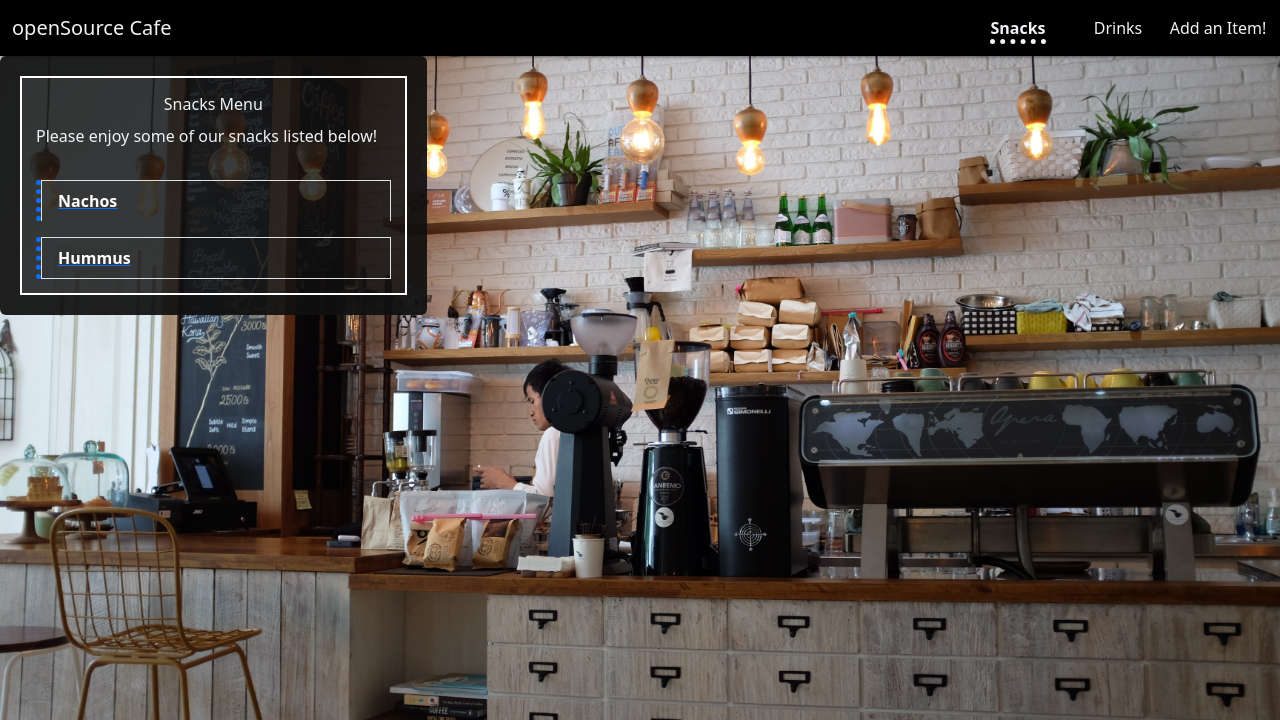
Test: submits new drink successfully with valid inputs
This screenshot has width=1280, height=720.
Click the link with class "NavLink-new-item": (1218, 28) 1170,17 -> 1266,39
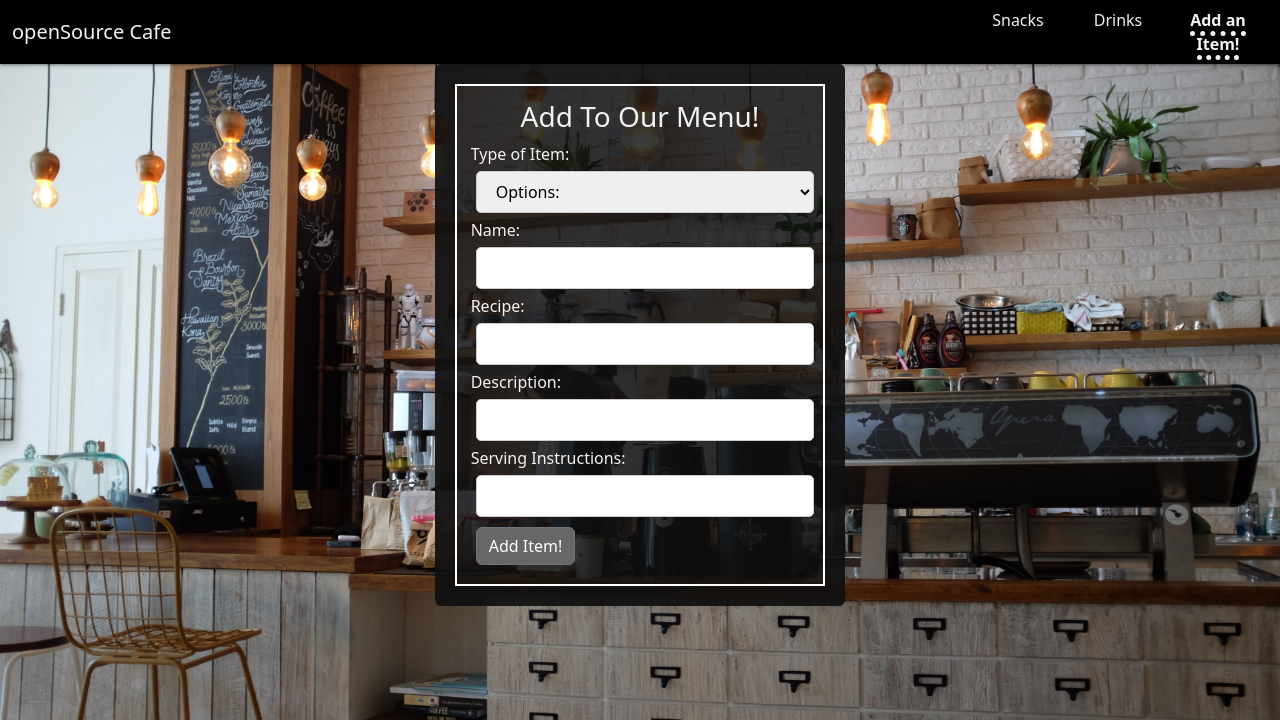
Select "Drink" in the dropdown with class "NewItemForm-type": (645, 192) 476,171 -> 814,213
In the field with id "NewItemForm-name": (645, 268) 476,247 -> 814,289, type "New Drink!"
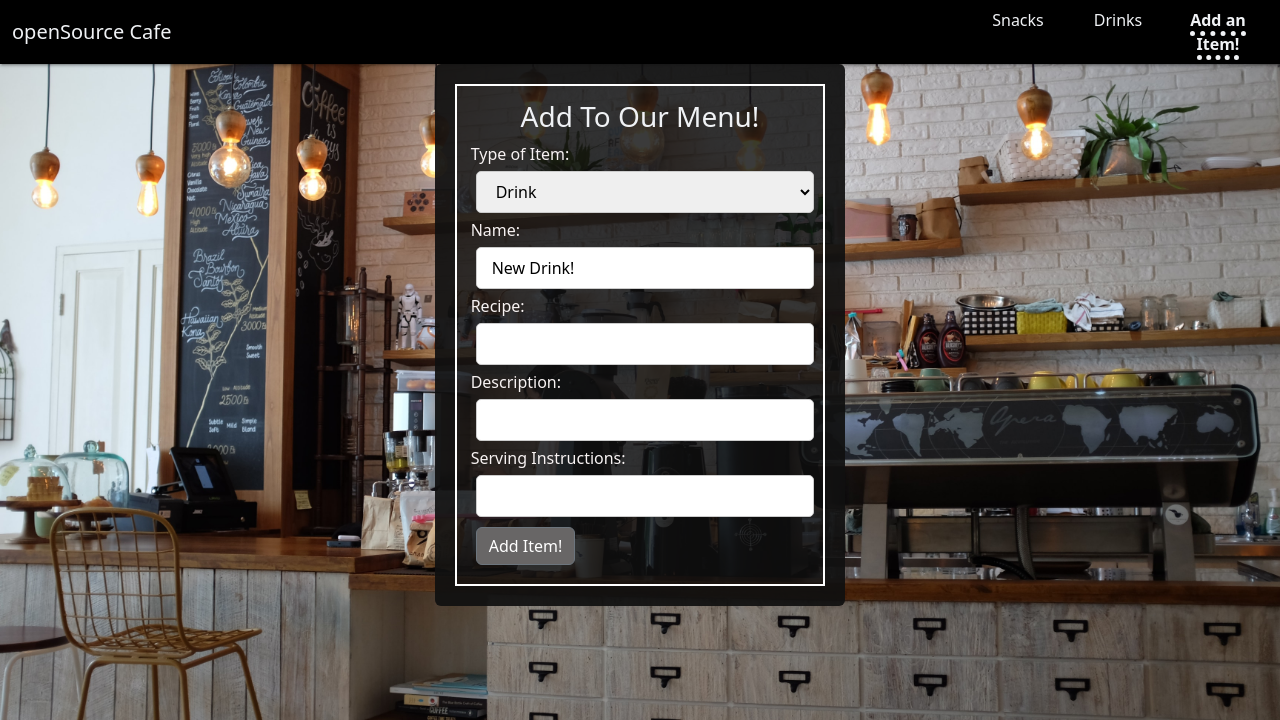
In the field with id "NewItemForm-recipe": (645, 344) 476,323 -> 814,365, type "Just have fun out there."
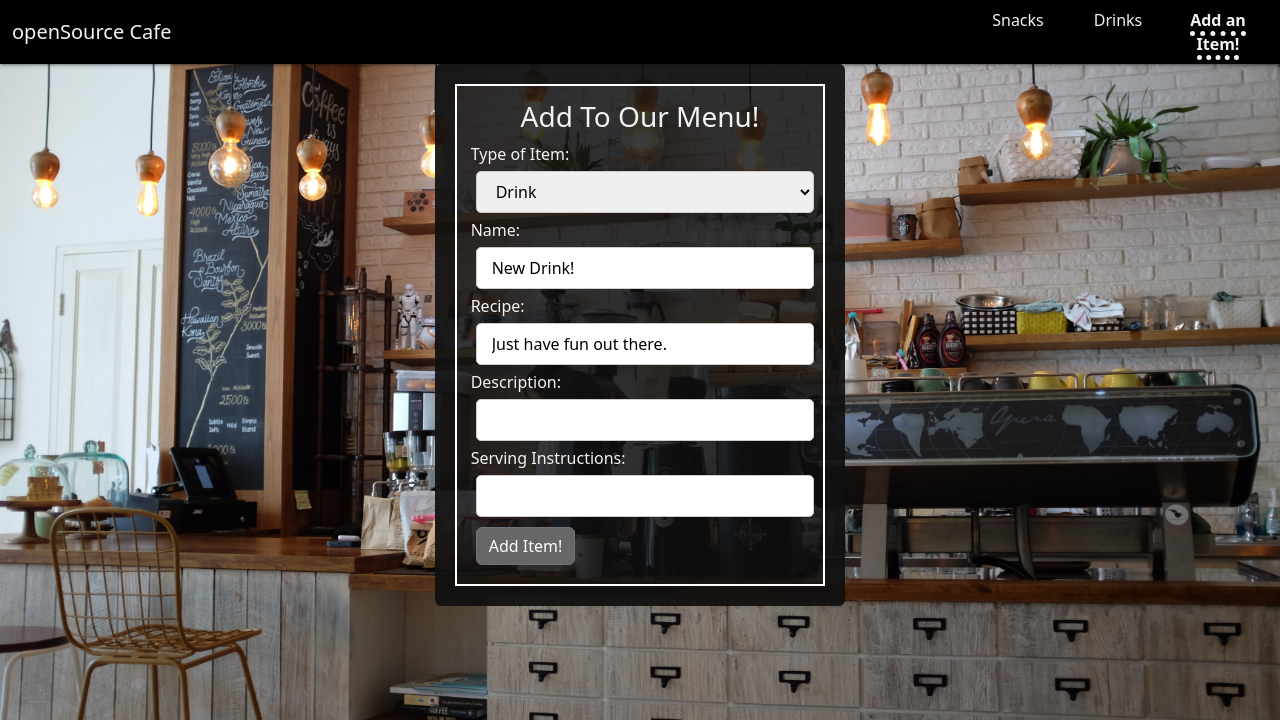
In the field with id "NewItemForm-description": (645, 420) 476,399 -> 814,441, type "New drink description."
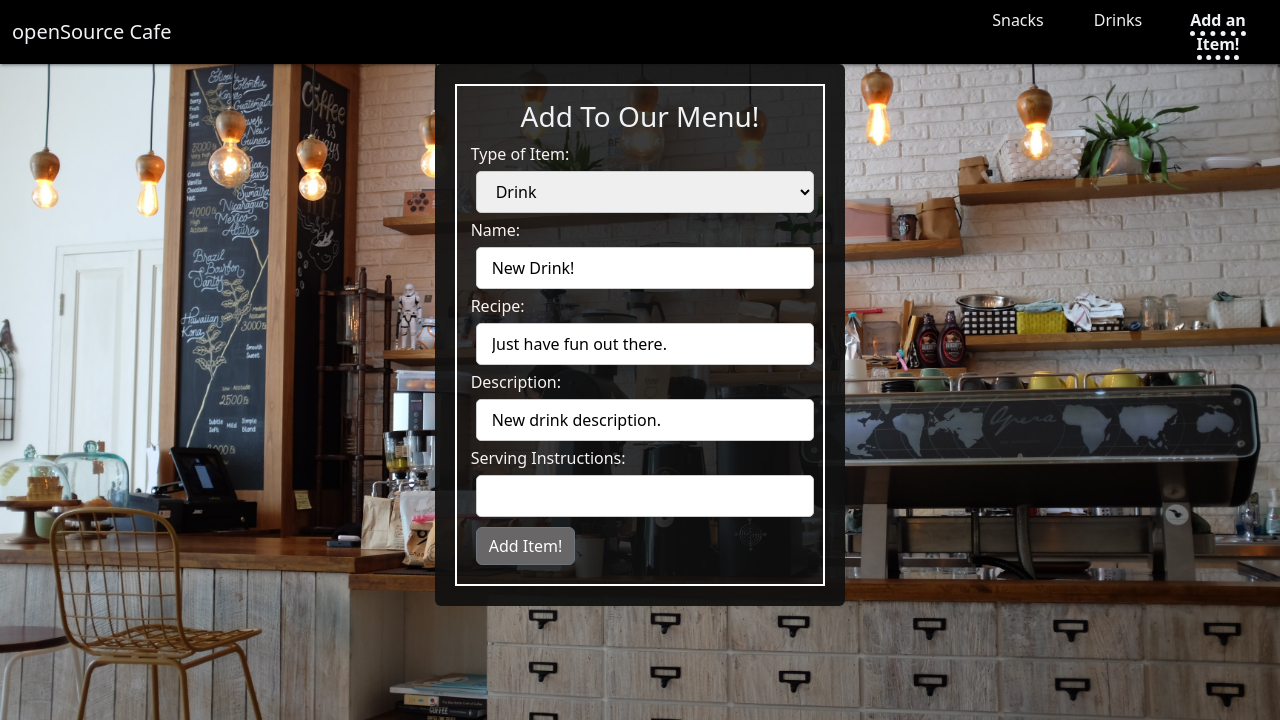
In the field with id "NewItemForm-serving-instructions": (645, 496) 476,475 -> 814,517, type "All day"
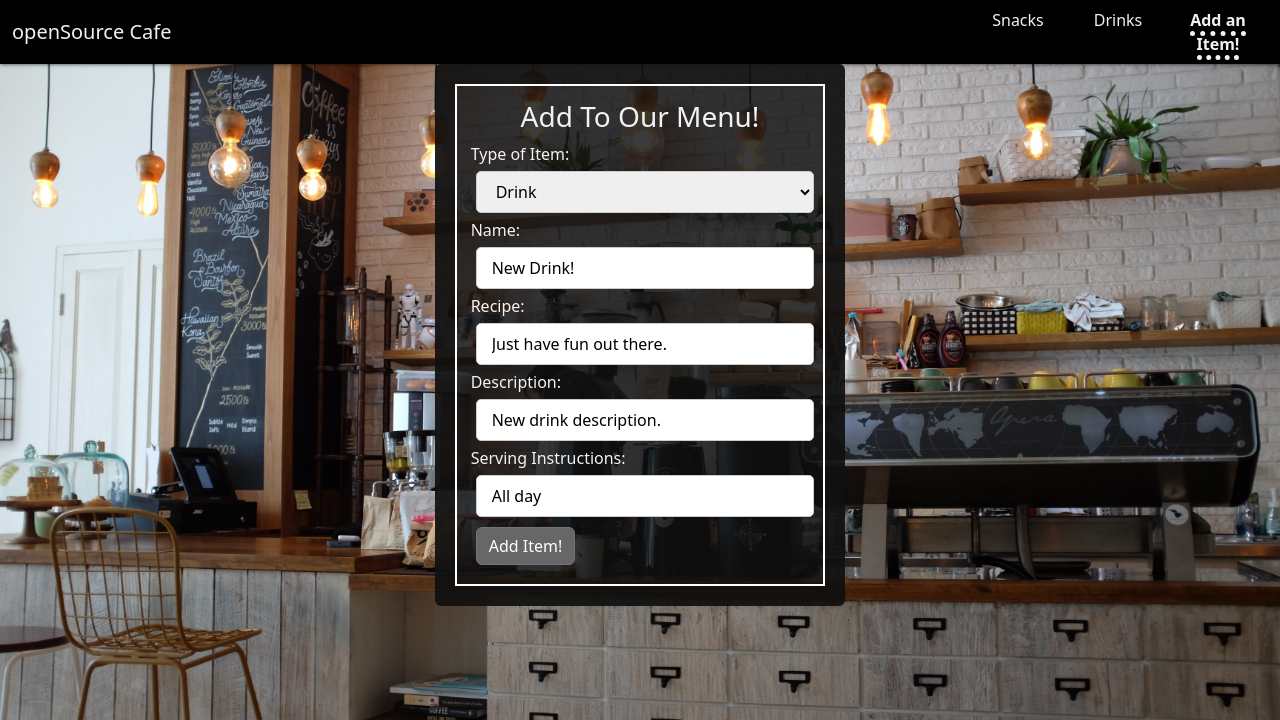
Submit the form with class "NewItemForm-form", box 471,142 -> 809,570
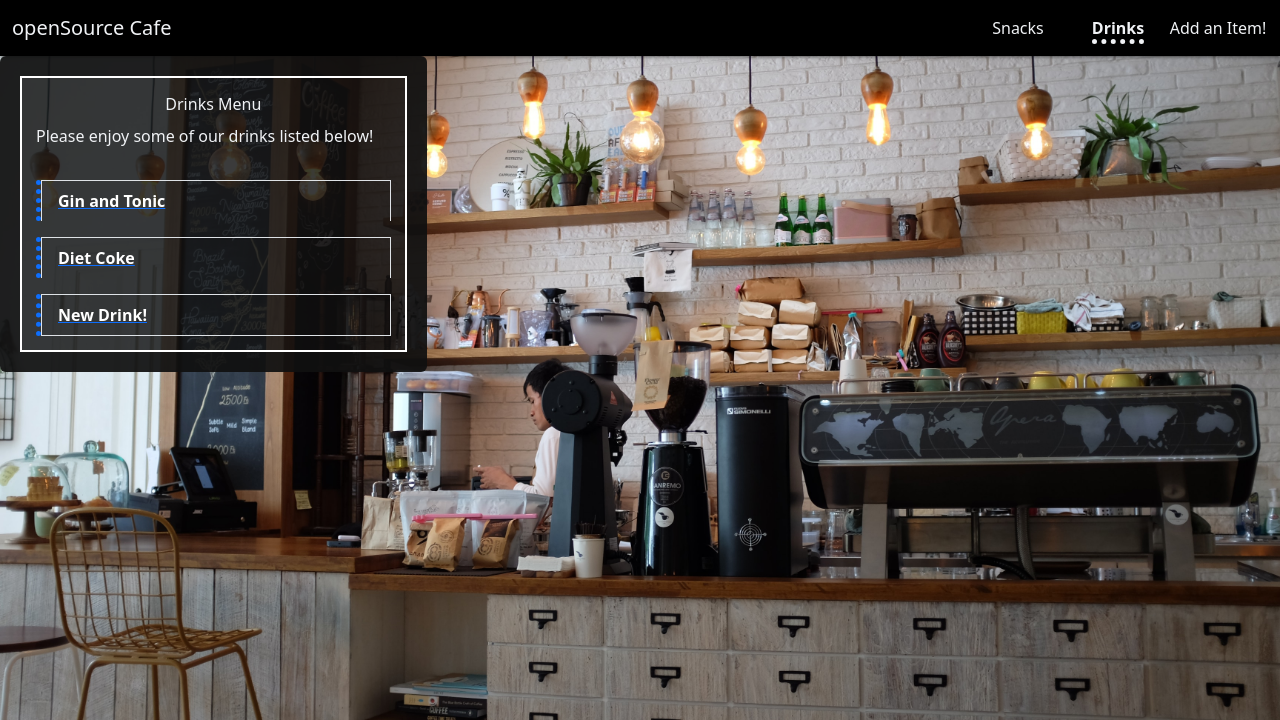
Expected: the text "Please enjoy some of our drinks listed below!" is shown, 36,124 -> 391,148
Expected: the text "New Drink!" is shown, 41,294 -> 391,336
